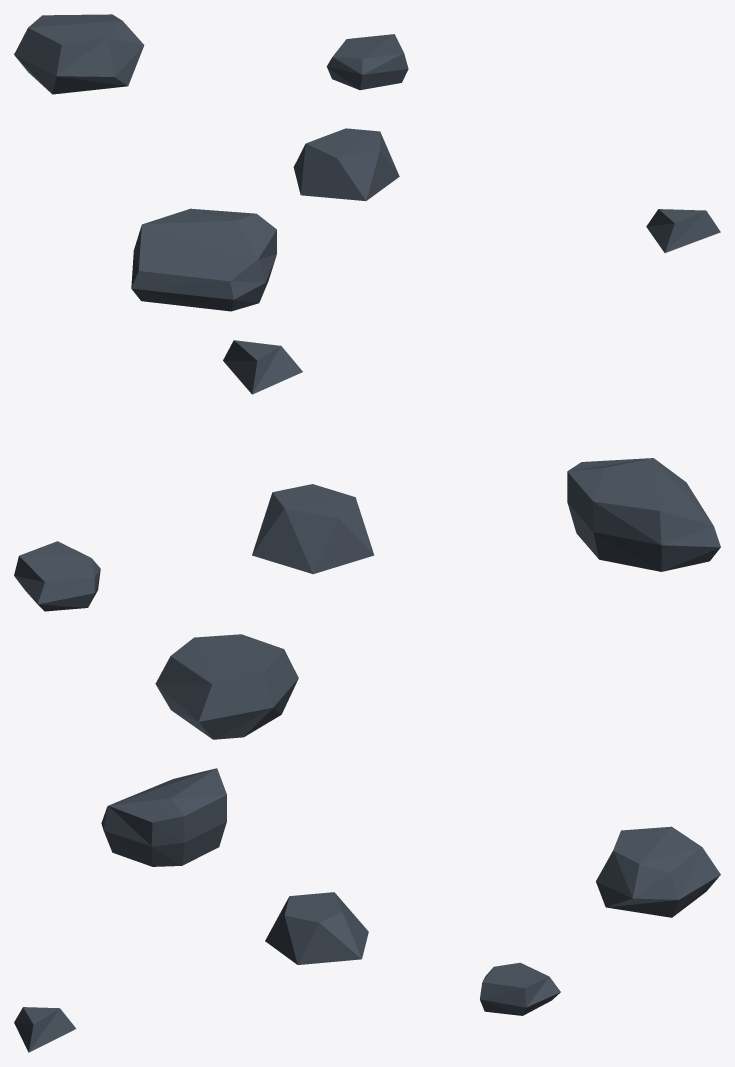
File: TB_Env_Stone_Set1_B.FBX
3 views of the same model, one above another, from view 1: azimuth 30°, elevation 25°; view 2: azimuth 150°, elevation 25°; view 3: azimuth 270°, elevation 25° (orthographic). The views are drawn at different scales.
Parts seen in each view (by area): view 1: TB_Env_Stone_Set1_B; view 2: TB_Env_Stone_Set1_B; view 3: TB_Env_Stone_Set1_B.
Part boxes in pixels (<box>): TB_Env_Stone_Set1_B: <box>14,14,720,311</box>; TB_Env_Stone_Set1_B: <box>14,340,720,739</box>; TB_Env_Stone_Set1_B: <box>14,768,720,1052</box>.
Size of the model in its own units: 2.77 by 0.3027 by 3.36.
